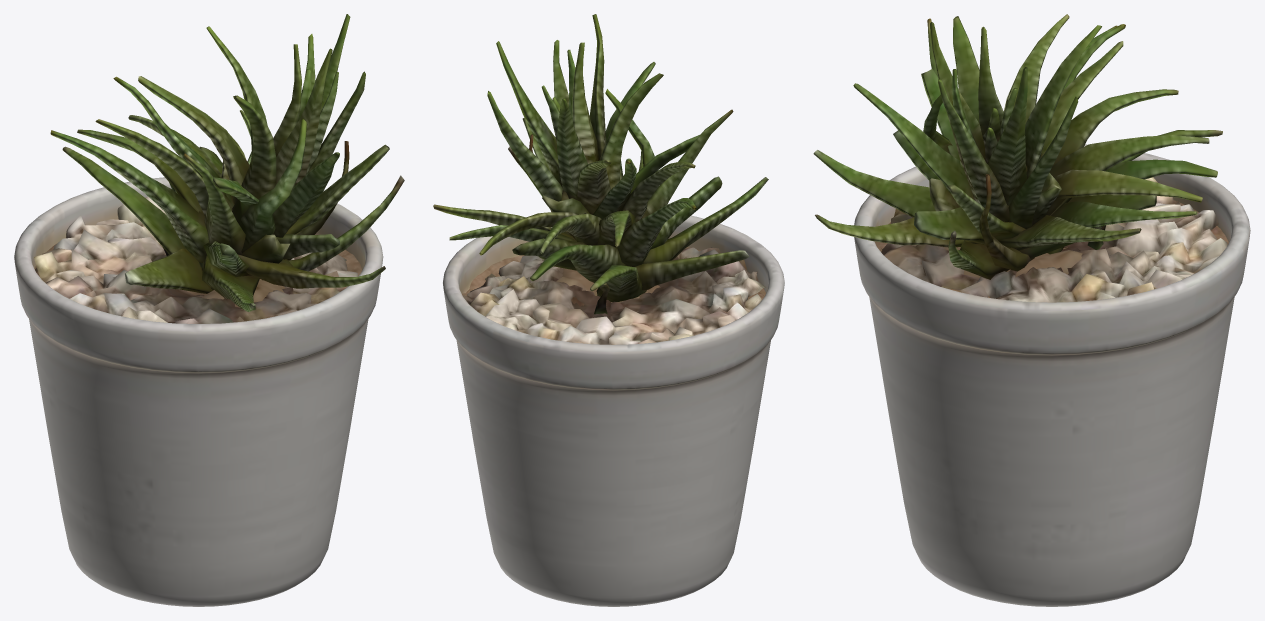
File: potted_plant_04.gltf
3 views of the same model, side by side, from view 1: azimuth 30°, elevation 25°; view 2: azimuth 150°, elevation 25°; view 3: azimuth 270°, elevation 25° (orthographic). The views are drawn at different scales.
Parts seen in each view (by area): view 1: potted_plant_04_pot, potted_plant_04_plant, potted_plant_04_ground, potted_plant_04_dirt; view 2: potted_plant_04_pot, potted_plant_04_plant, potted_plant_04_ground, potted_plant_04_dirt; view 3: potted_plant_04_pot, potted_plant_04_plant, potted_plant_04_ground, potted_plant_04_dirt.
Part boxes in pixels (x1,y1,x2,y2): potted_plant_04_pot: [14, 177, 383, 606]; potted_plant_04_plant: [50, 14, 404, 311]; potted_plant_04_ground: [34, 196, 357, 323]; potted_plant_04_dirt: [34, 238, 362, 307]; potted_plant_04_pot: [443, 215, 784, 606]; potted_plant_04_plant: [433, 14, 768, 314]; potted_plant_04_ground: [463, 247, 765, 344]; potted_plant_04_dirt: [462, 247, 765, 306]; potted_plant_04_pot: [854, 144, 1250, 606]; potted_plant_04_plant: [813, 14, 1222, 279]; potted_plant_04_ground: [881, 177, 1227, 302]; potted_plant_04_dirt: [875, 200, 1228, 297].
Size of the model in its own units: 0.1679 by 0.2675 by 0.1848.
Materials: 1 (1 with a texture image).
